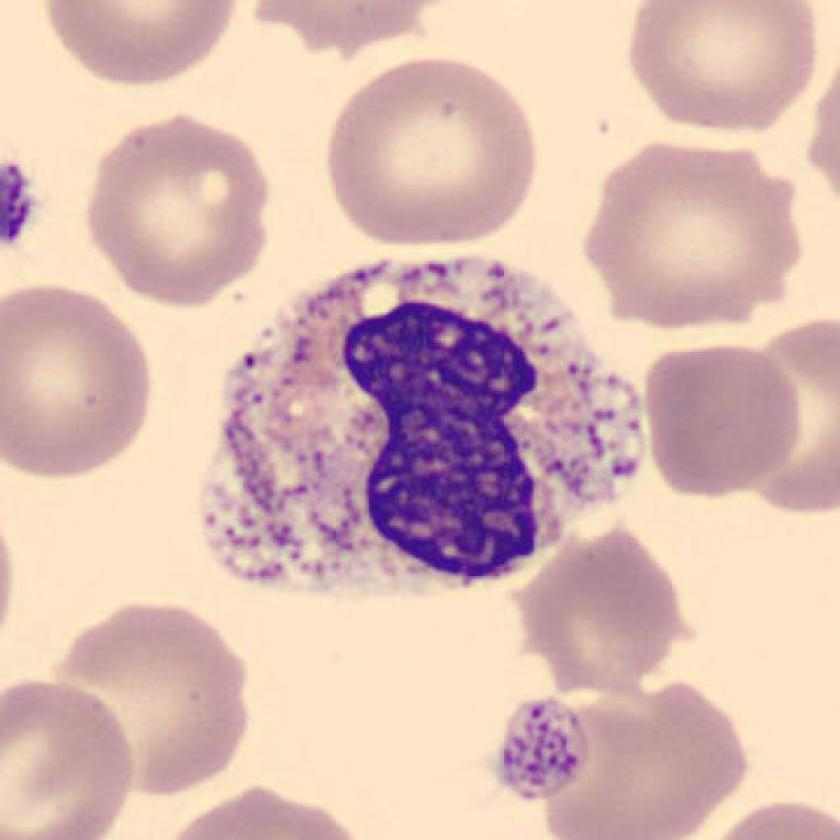neutrophil: (203, 260, 646, 600)
